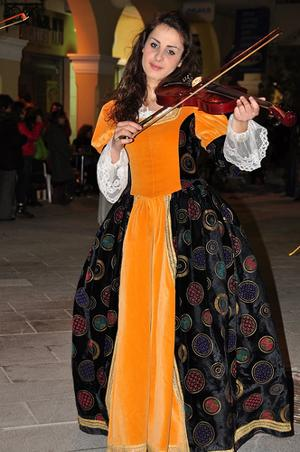person: (91, 12, 261, 452)
